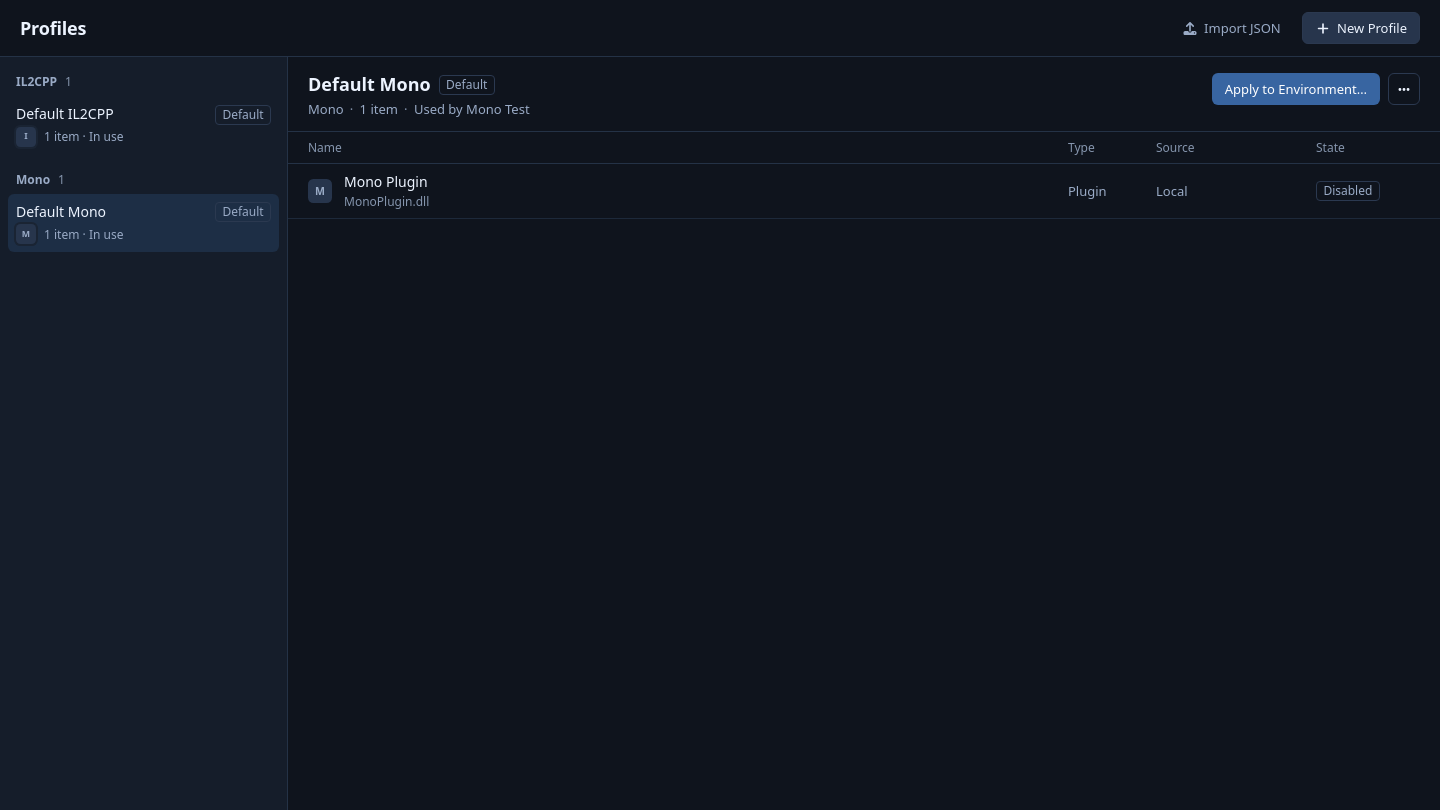
Test: ProfilesWorkspace › initializes from the preferred environment runtime
The width and height of the screenshot is (1440, 810).
Expected: the button "Default Mono Default M 1 item · In use" is shown, x1=8 y1=194 x2=279 y2=252
Expected: the button "Default IL2CPP Default I 1 item · In use" is shown, x1=8 y1=96 x2=279 y2=155
What coordinates should you click on to do the following:
click the button "Apply to Environment…"
I would click on:
 (1296, 89)
Its box is x1=1212 y1=73 x2=1380 y2=105.
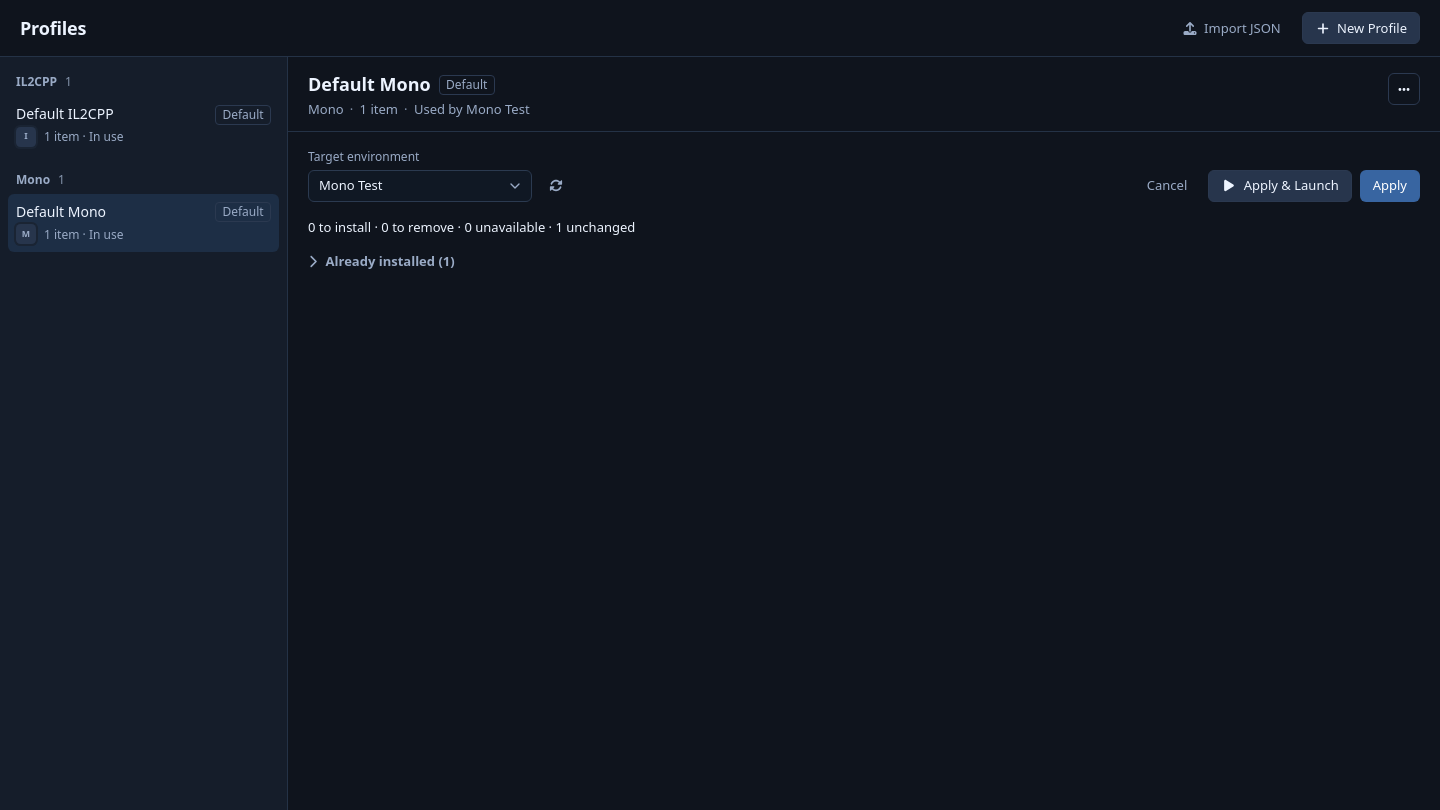
Expected: the dropdown named "target environment" shows "Mono Test", x1=308 y1=170 x2=532 y2=202
